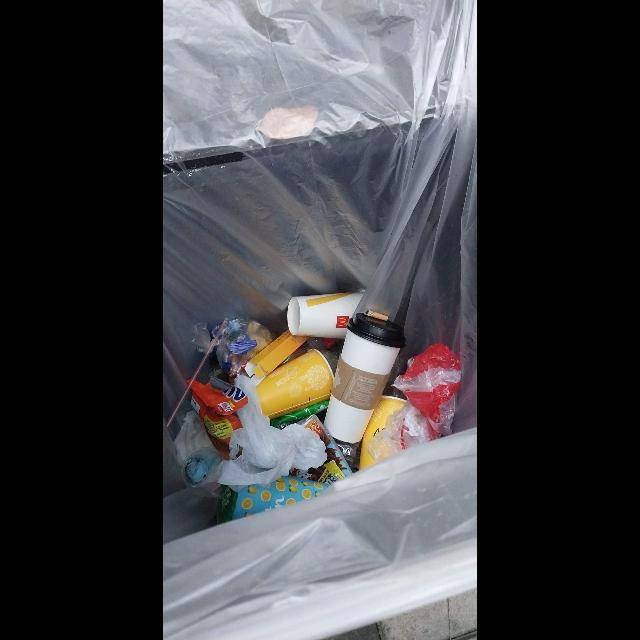cardboard: (324, 330, 400, 444), (256, 349, 334, 419), (244, 330, 309, 387), (287, 291, 363, 339), (359, 395, 406, 470)
food_wrapper: (186, 379, 248, 461)
plastic_bag: (218, 375, 328, 486), (367, 343, 460, 463), (216, 318, 272, 385), (191, 322, 210, 348)
